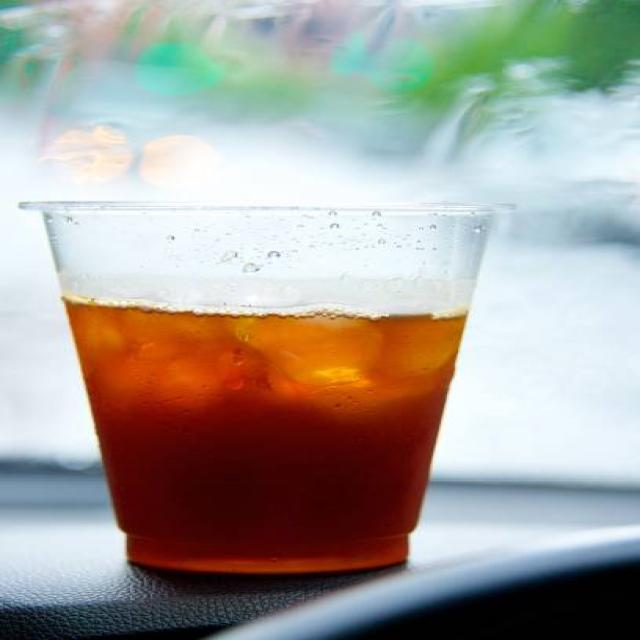cup: (2, 188, 526, 587)
